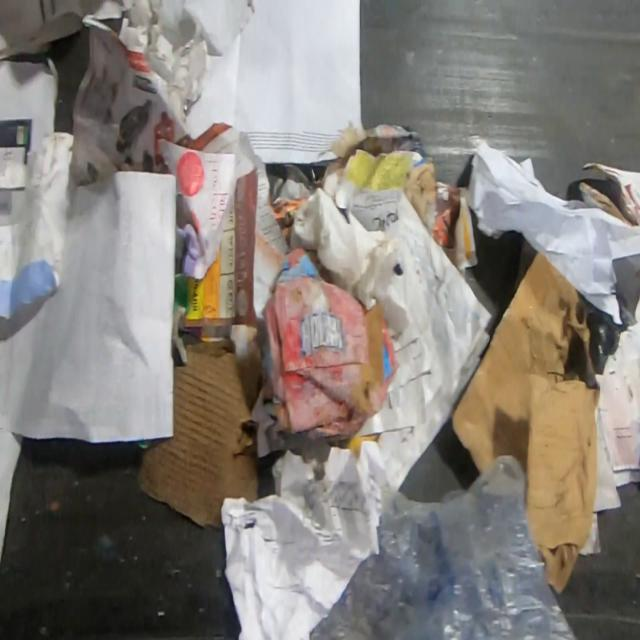cardboard: (448, 248, 600, 598), (136, 330, 270, 530), (262, 275, 398, 443), (576, 161, 640, 227)
soft_plastic: (309, 454, 580, 639)
